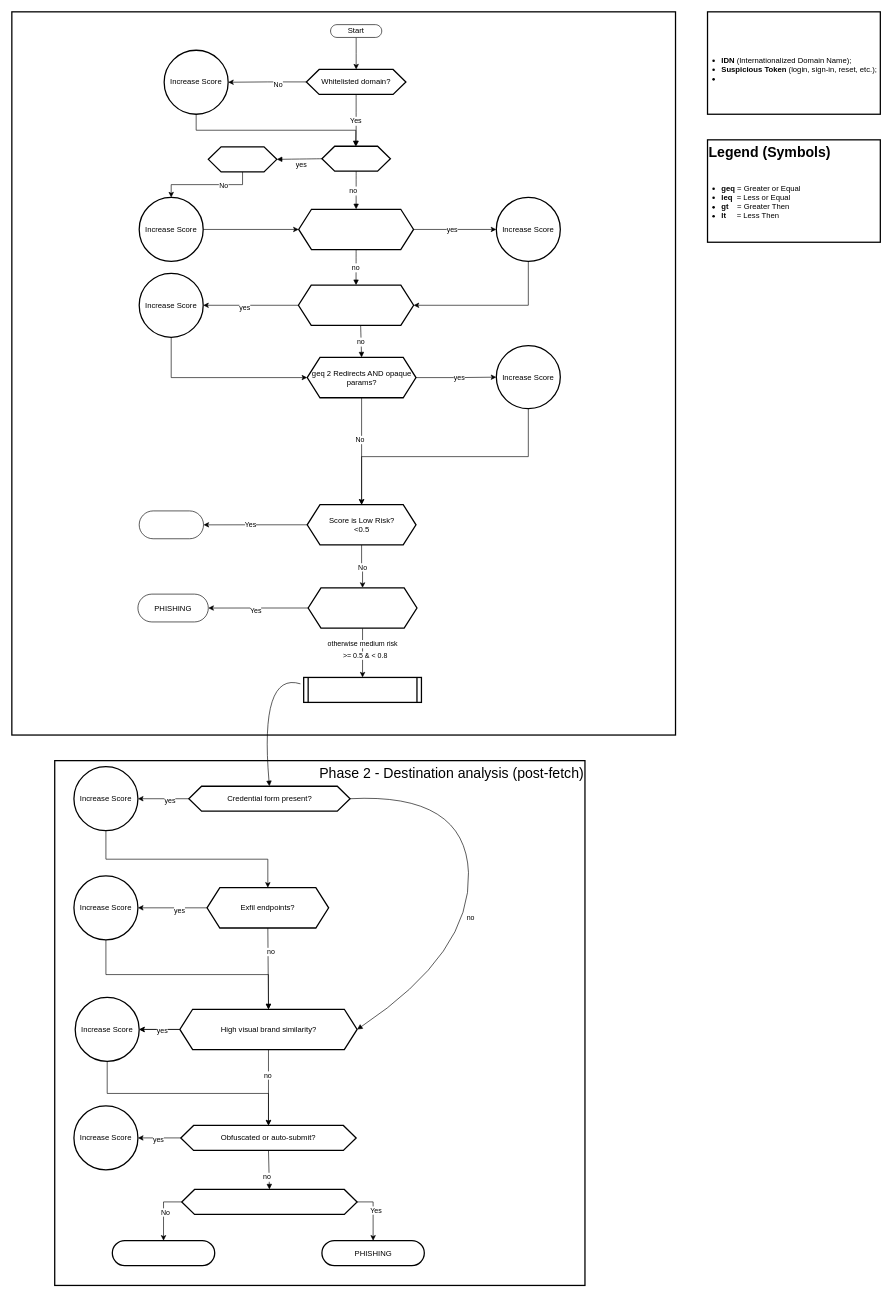
The diagram is 892 pixels wide and 1297 high, and some of its shapes have lost their labels. The box of each missing label's shape, as (x1, y1, x2, y2) in pixels:
ESCALATE --> PHASE 2: (303, 676, 422, 703)
Has score Changed?: (181, 1188, 357, 1215)
IDN*/homoglyph AND brand-similar?: (298, 208, 414, 250)
IP host?: (321, 145, 391, 172)
Legend: (707, 11, 881, 115)
LEGITIMATE: (139, 510, 204, 539)
Phase 1 - URL analysis (pre-fetch): (11, 11, 676, 735)
Recent domain (leq 14 days) AND geq*1 suspicious token*?: (297, 284, 414, 326)
Score is High Risk? >=0.8: (307, 587, 417, 628)
SUSPICIOUS: (111, 1240, 215, 1266)
Whitelisted IP host?: (207, 146, 277, 172)
